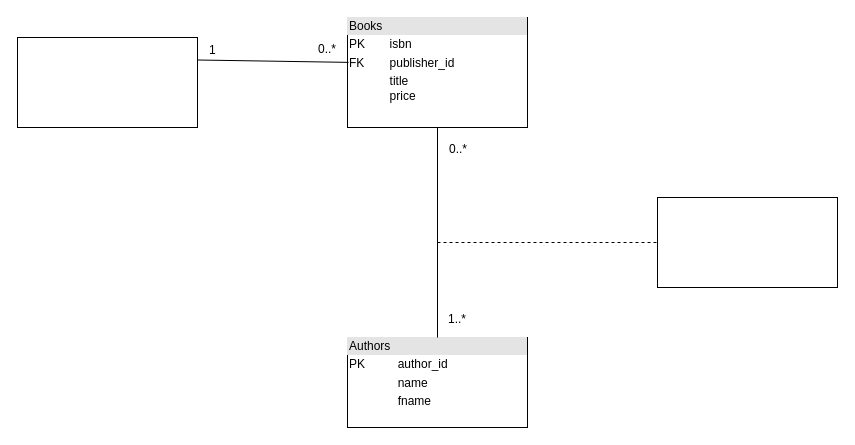
Image size: 855x445. Some labels were removed from this diagram. The centre of each missing label's shape, as x and y in pixels:
"BooksAuthors FK, PK isbn FK, PK author_id seq_no" belongs at pixel 747 242.
"Publishers PK publisher_id name url" belongs at pixel 107 82.
